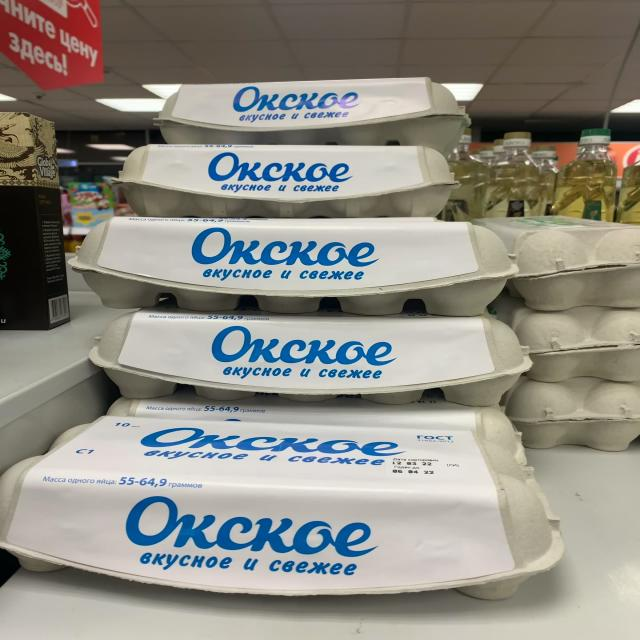egg box: (0, 413, 567, 602), (87, 308, 533, 410), (68, 216, 519, 316), (114, 144, 460, 219), (151, 77, 471, 152)
